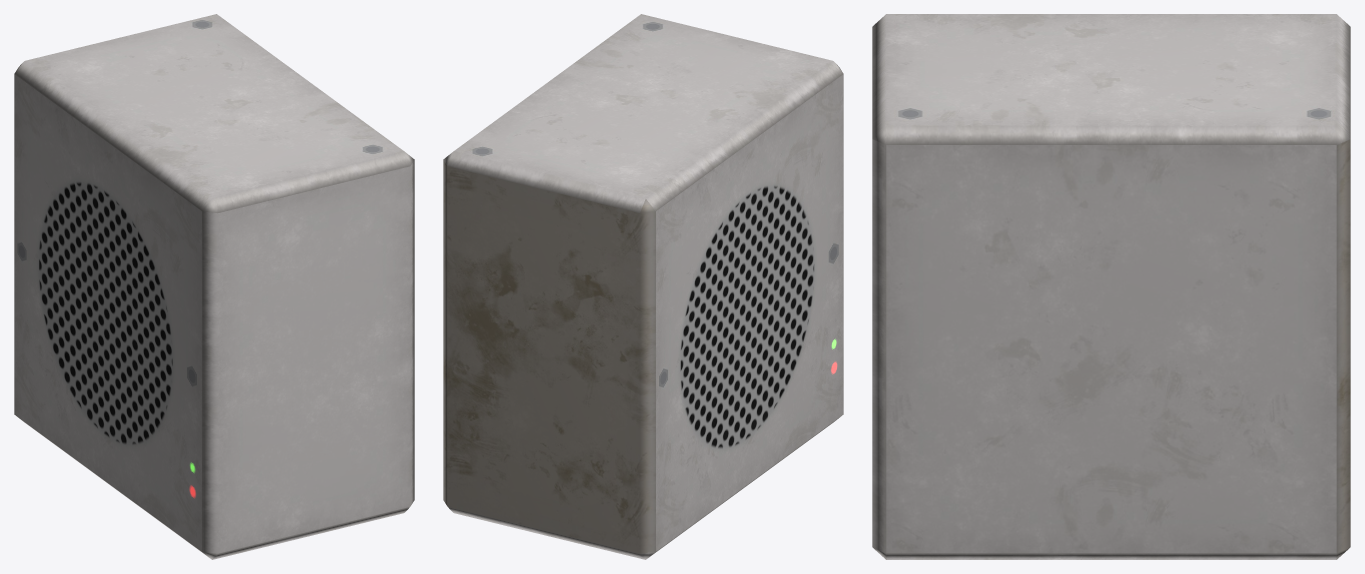
The model's file is speaker.gltf.
The picture shows the model from 3 angles, left to right: view 1: azimuth 30°, elevation 25°; view 2: azimuth 150°, elevation 25°; view 3: azimuth 270°, elevation 25°; orthographic projection. The views are drawn at different scales.
Visible parts, largest first — view 1: defaultMaterial; view 2: defaultMaterial; view 3: defaultMaterial.
Boxes of the visible parts, left/top/right/bottom form: defaultMaterial: left=14, top=14, right=414, bottom=559; defaultMaterial: left=443, top=14, right=843, bottom=559; defaultMaterial: left=872, top=14, right=1350, bottom=559.
Size of the model in its own units: 0.1107 by 0.1799 by 0.1799.
1 material, 1 textured.
